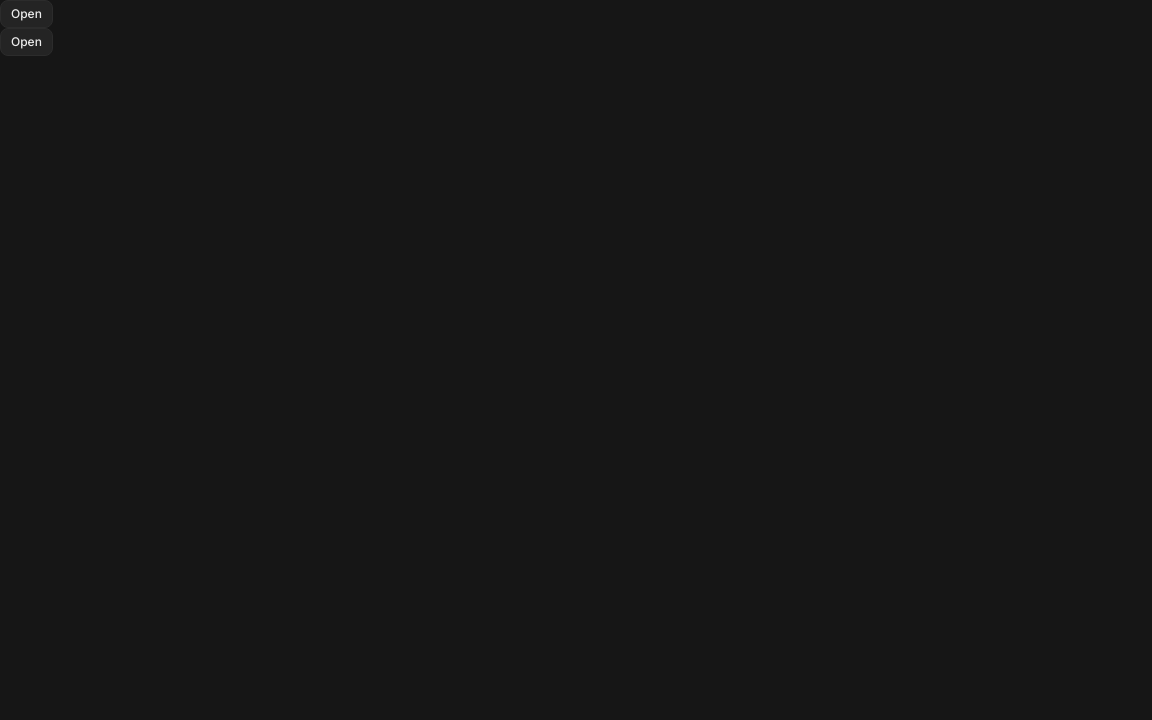
Test case: PickerMenu › offers a filter box only past eight options, and says when nothing matches
The image size is (1152, 720).
Earlier steps of the test are not shown.
Click the 2nd button "Open": (26, 42) [0, 28, 53, 56]
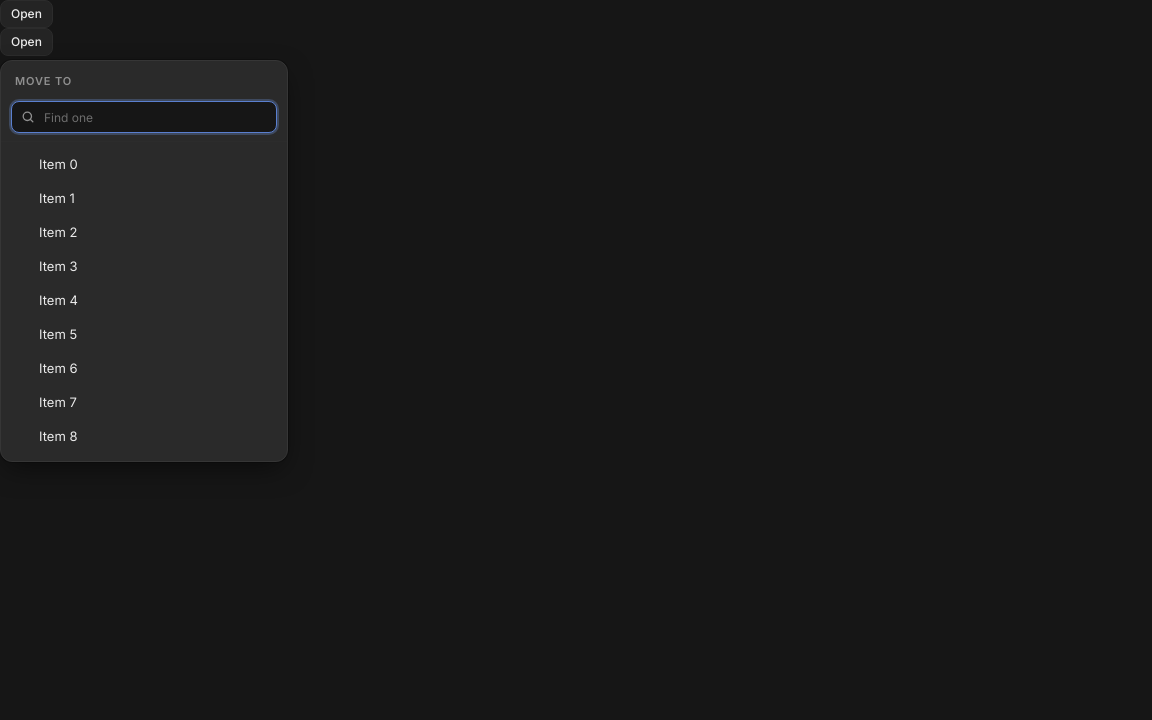
In the field labelled "Find one": (144, 117) [11, 101, 277, 133], type "item 11"
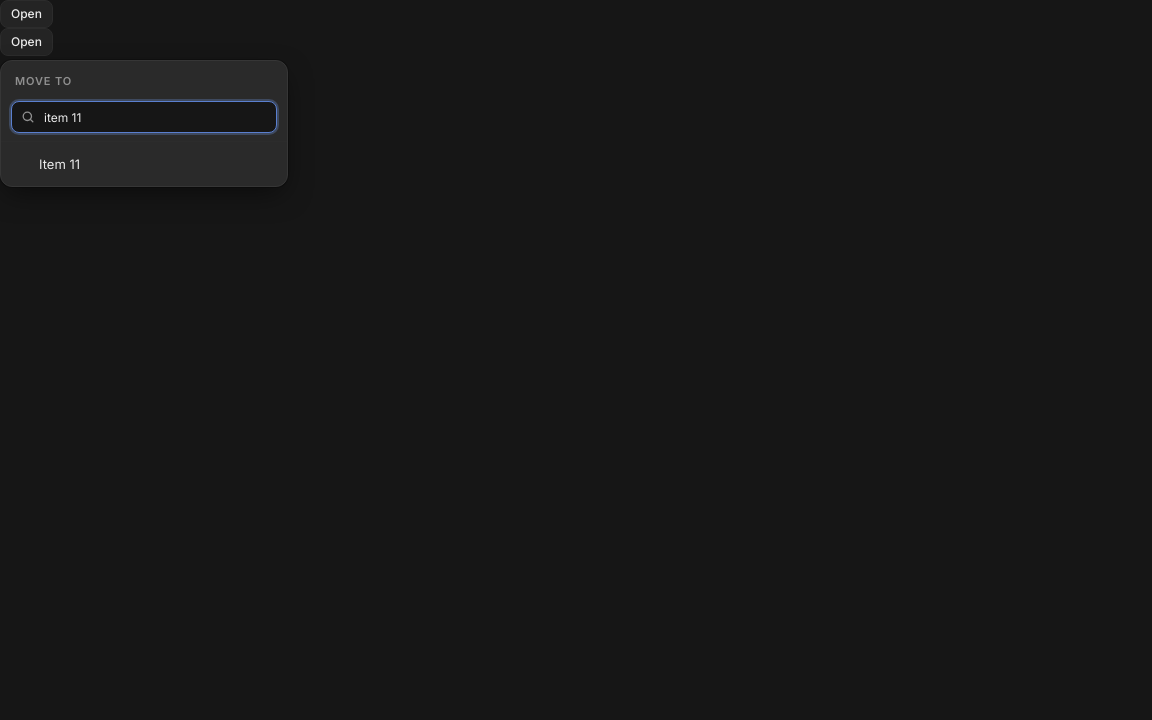
Check: the number of buttons "Item 11" is 1, box [7, 148, 281, 180]
Replace the text in the field named "Find one" with "zzz": (144, 117) [11, 101, 277, 133]
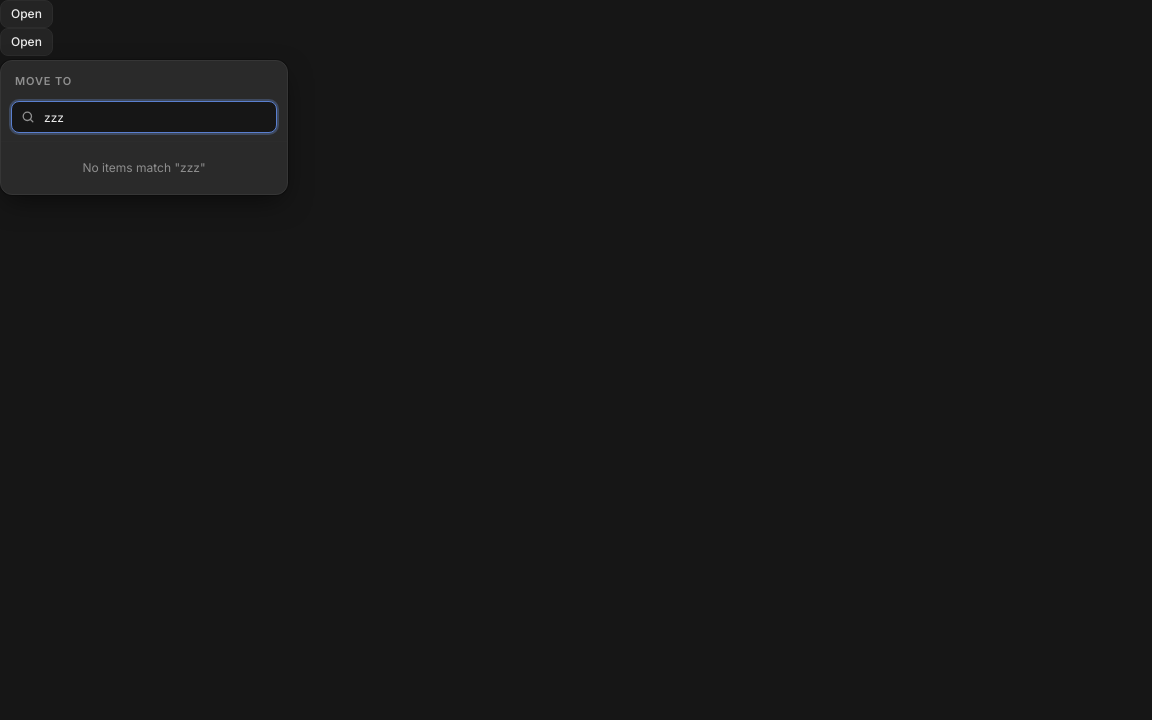
Check: the list item "No items match \"zzz\"" is shown, box [82, 160, 206, 175]
